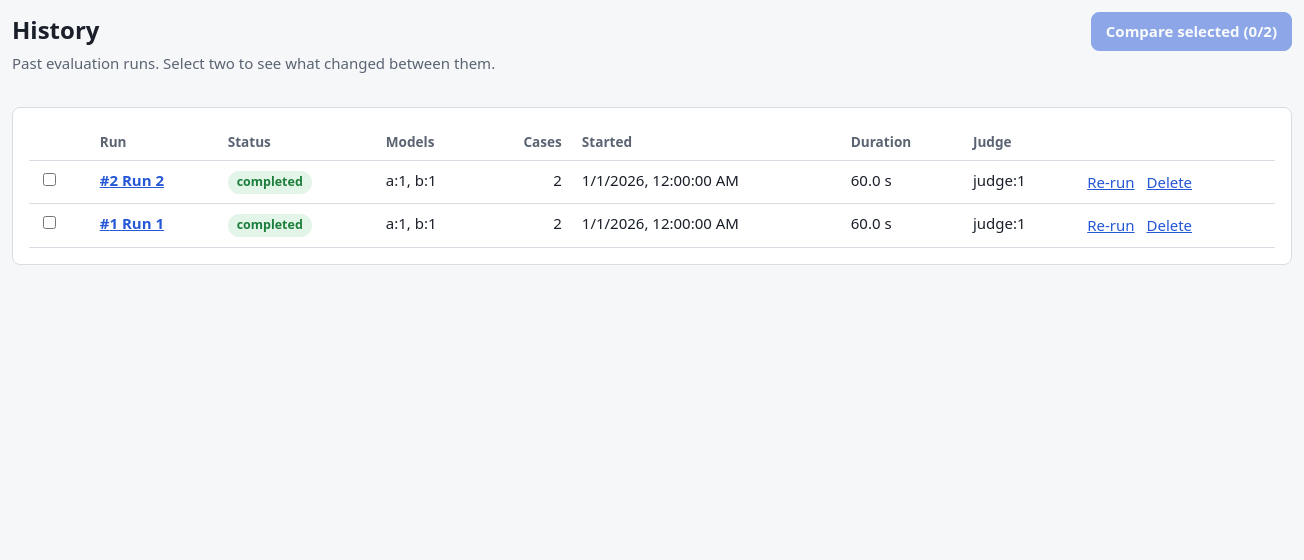
Scenario: 9.9 history page › compares two selected runs and shows direction with arrows and words, not colour
This screenshot has width=1304, height=560.
Expected: the button "Compare selected (0/2)" is disabled, [1091,12,1292,50]
Click the checkbox named "Select run 2 for comparison" at (50, 179), box [43,173,56,186]
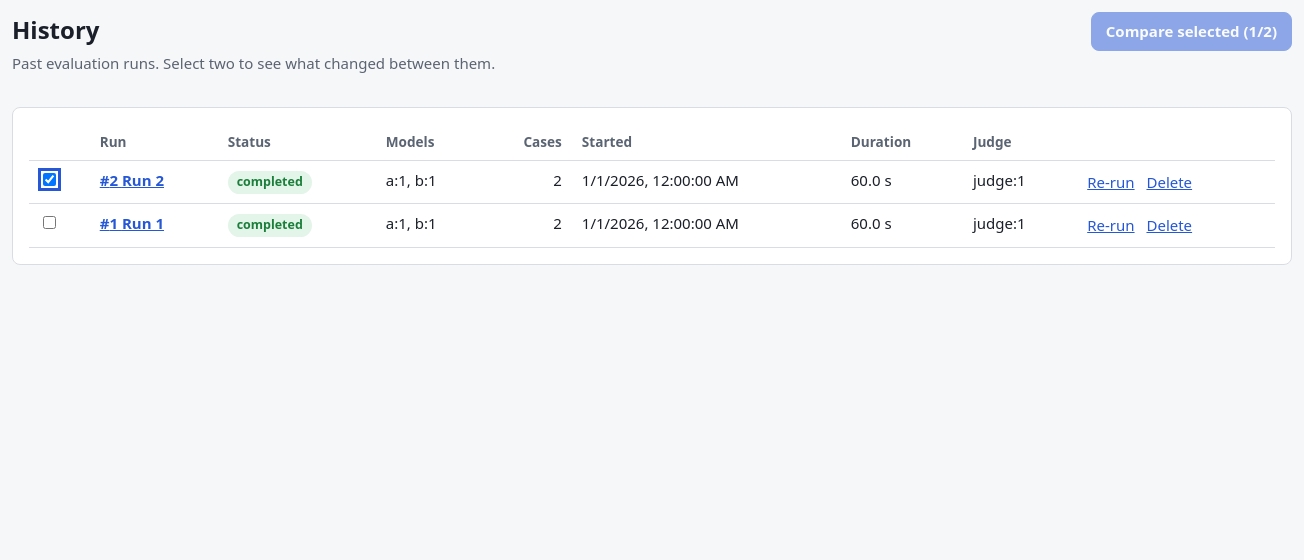
Click the checkbox named "Select run 1 for comparison" at (50, 223), box [43,216,56,229]
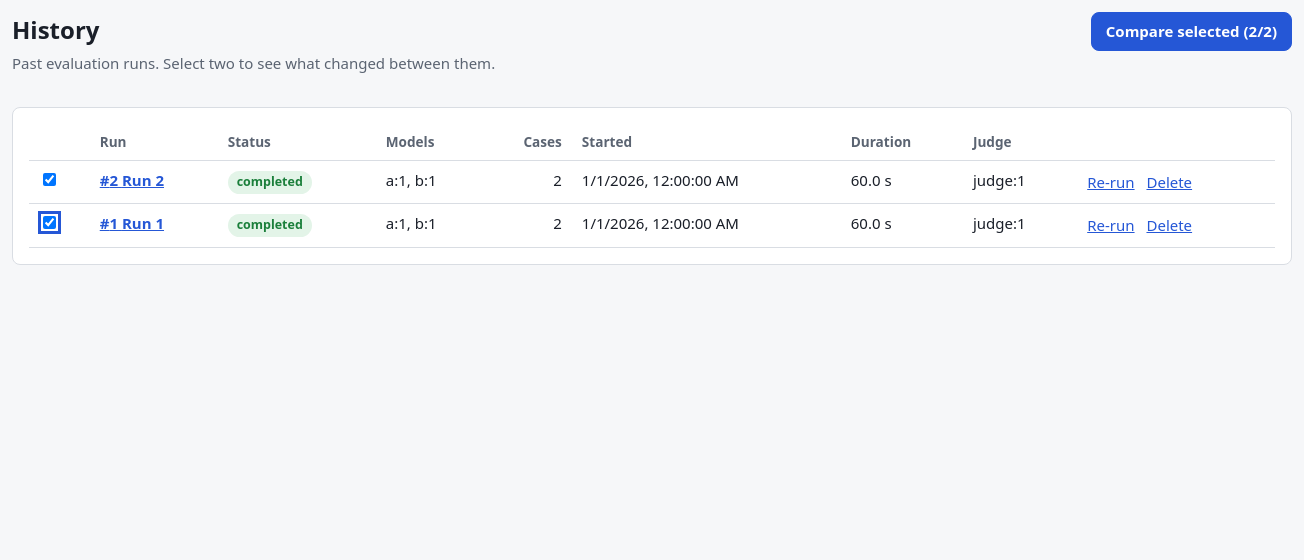
Click the button "Compare selected (2/2)" at (1191, 31), box [1091,12,1292,50]
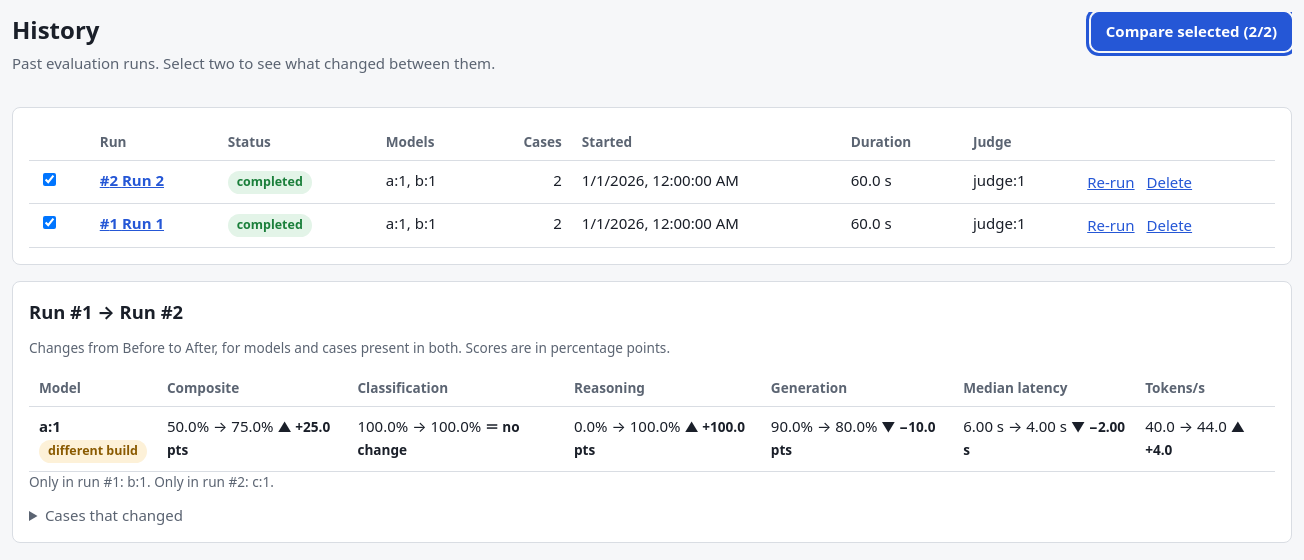
Expected: the text "▲ +25.0 pts" is shown, [167,417,330,459]
Expected: the text "▲ +100.0 pts" is shown, [574,417,745,459]
Expected: the text "▼ −10.0 pts" is shown, [771,417,936,459]
